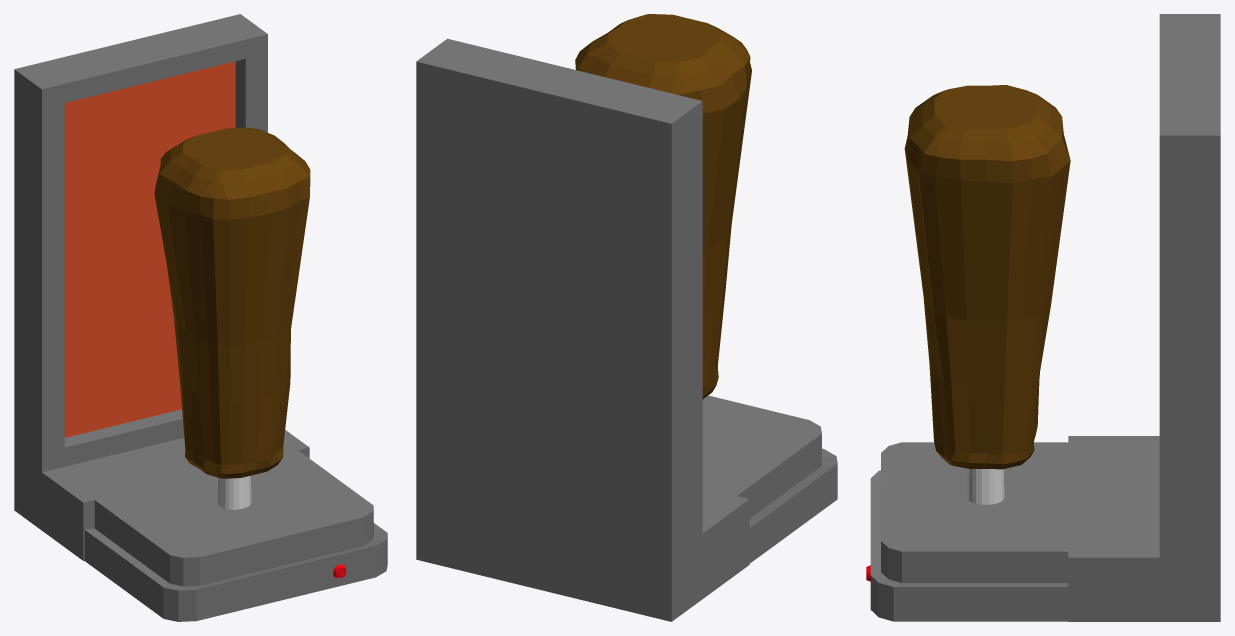
Rendered from trompomedio.fbx.
3 renders of one model, left to right at view 1: azimuth 30°, elevation 25°; view 2: azimuth 150°, elevation 25°; view 3: azimuth 270°, elevation 25°, orthographic. The views are drawn at different scales.
Visible parts, largest first — view 1: CALENTADOR, CARNE HALF, BASE, TUBITO; view 2: CALENTADOR, CARNE HALF, BASE; view 3: CALENTADOR, CARNE HALF, BASE, TUBITO.
Boxes of the visible parts, x1,y1,x2,y2 form: CALENTADOR: [14, 14, 309, 560]; CARNE HALF: [154, 127, 310, 478]; BASE: [84, 450, 387, 621]; TUBITO: [216, 475, 251, 509]; CALENTADOR: [416, 38, 749, 621]; CARNE HALF: [575, 14, 751, 399]; BASE: [702, 395, 837, 563]; CALENTADOR: [1068, 14, 1220, 621]; CARNE HALF: [904, 85, 1070, 469]; BASE: [870, 442, 1068, 621]; TUBITO: [967, 468, 1004, 504].
Bounding box in the file's own units: 495 × 922 × 608.
